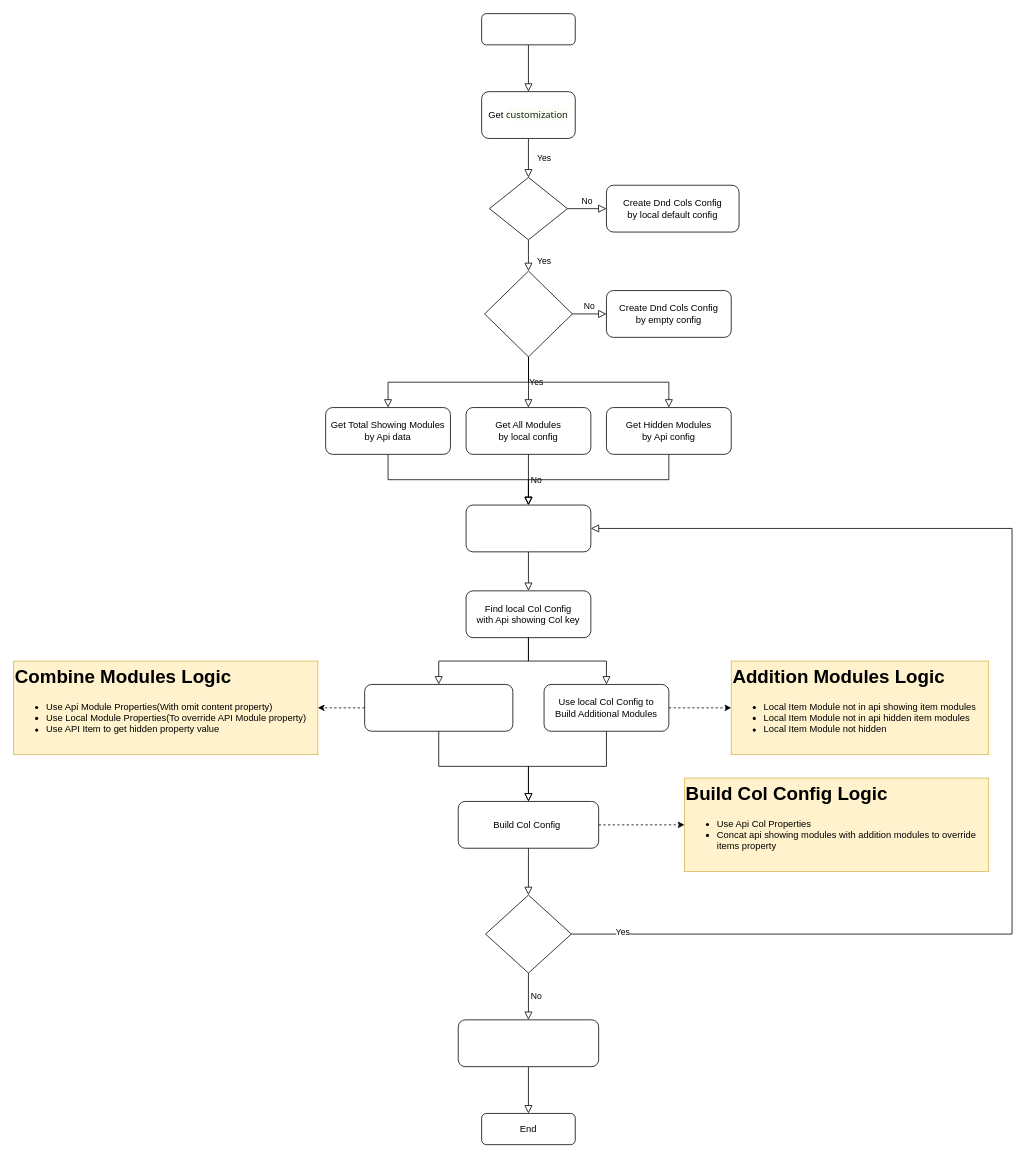
Image size: 1034x1158. Some labels were removed from this diagram. Here are the shapes that lost their labels. From the top down, the centre of each, then its label:
(528,29): Start
(528,208): Have Dashboard Modules
(528,313): Showing cols not empty
(528,528): Get Next Api Showing Col
(438,707): Combine Api Col Item Modules with local Item Module define
(528,933): Have Next Col Config
(528,1043): Filter Hidden Modules (With Permission)
